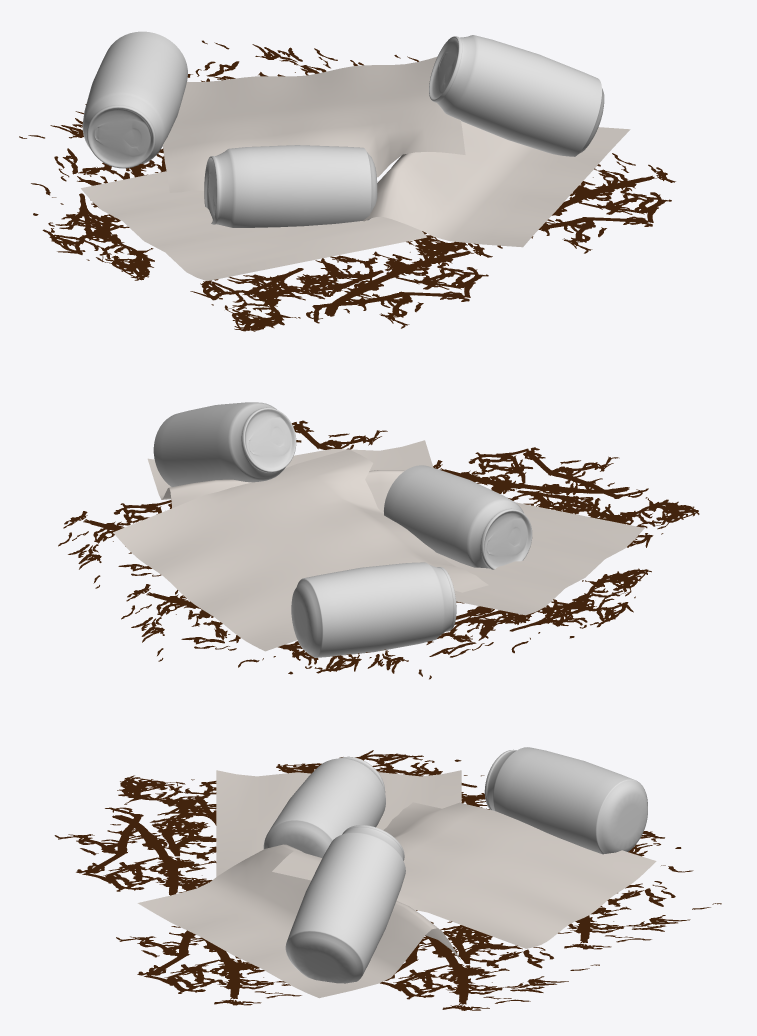
Rendered from geo_RubbishPile_01.fbx.
3 views of the same model, one above another, from view 1: azimuth 30°, elevation 25°; view 2: azimuth 150°, elevation 25°; view 3: azimuth 270°, elevation 25° (orthographic). The views are drawn at different scales.
Parts seen in each view (by area): view 1: G_Rubbish_02; view 2: G_Rubbish_02; view 3: G_Rubbish_02.
Part boxes in pixels (x1,y1,x2,y2): G_Rubbish_02: (19,31,675,331); G_Rubbish_02: (58,402,699,679); G_Rubbish_02: (54,747,721,1010).
Bounding box in the file's own units: 65.01 × 13.48 × 69.11.
